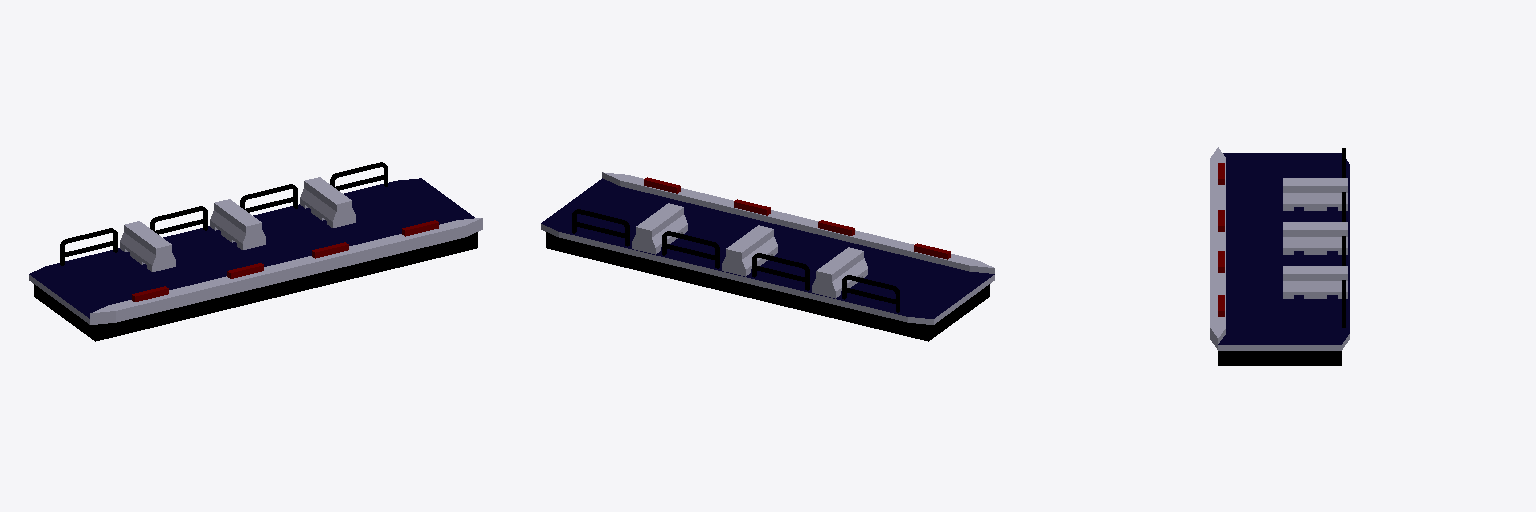
Rendered from TurretPlatform.obj.
3 views of the same model, side by side, from view 1: azimuth 30°, elevation 25°; view 2: azimuth 150°, elevation 25°; view 3: azimuth 270°, elevation 25° (orthographic).
Size of the model in its own units: 6.97 by 1.06 by 2.14.